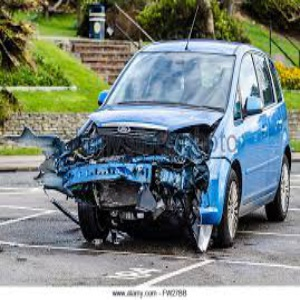bumper: (70, 159, 203, 224)
